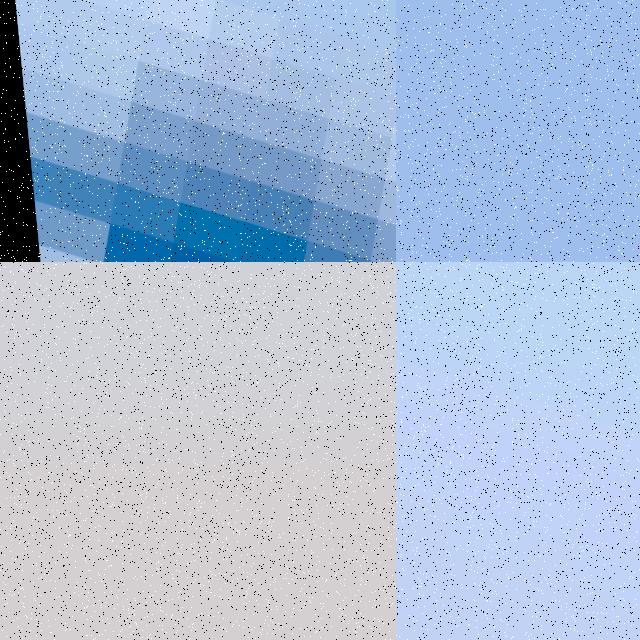drone: (0, 0, 396, 262), (396, 262, 640, 640)
